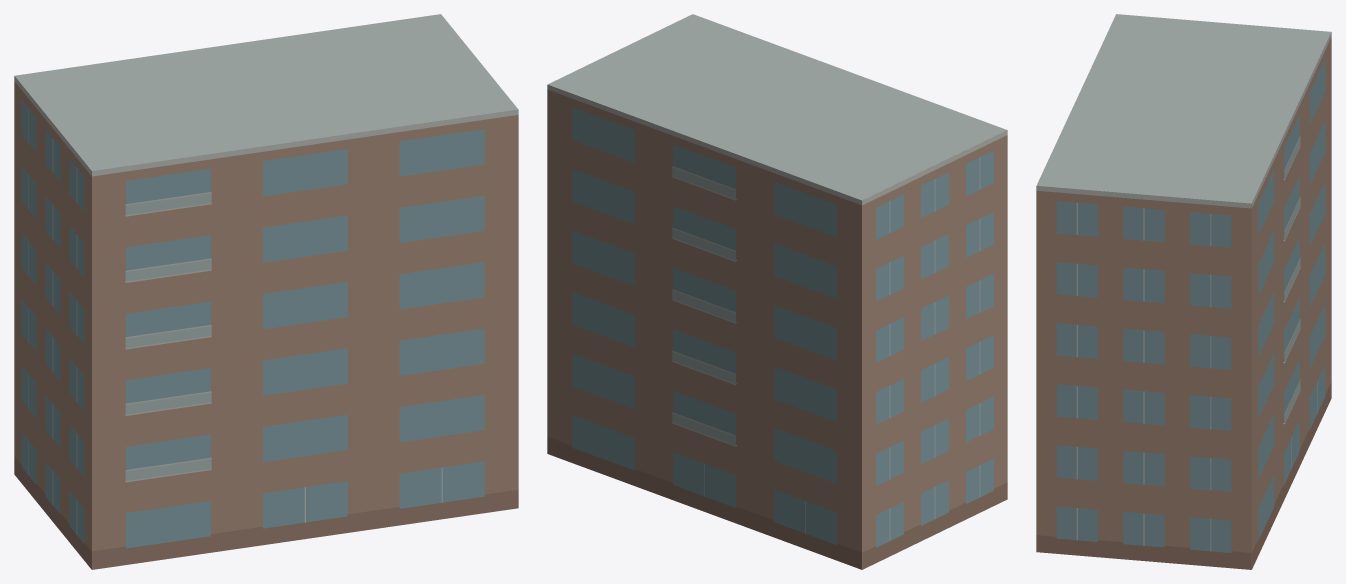
File: survey-upis-32528025.glb
The picture shows the model from 3 angles, left to right: view 1: azimuth 30°, elevation 25°; view 2: azimuth 150°, elevation 25°; view 3: azimuth 270°, elevation 25°; orthographic projection. The views are drawn at different scales.
Visible parts, largest first — view 1: survey-upis-32528025.tmp; view 2: survey-upis-32528025.tmp; view 3: survey-upis-32528025.tmp.
Boxes of the visible parts, x1=… form: survey-upis-32528025.tmp: x1=14, y1=14, x2=518, y2=569; survey-upis-32528025.tmp: x1=547, y1=14, x2=1007, y2=569; survey-upis-32528025.tmp: x1=1036, y1=14, x2=1331, y2=569.
Bounding box in the file's own units: 20.32 × 18.3 × 13.38.
